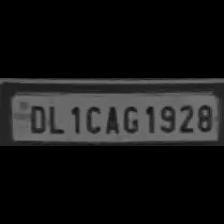1: (64, 102, 82, 134), (140, 103, 156, 135)
2: (176, 100, 194, 134)
8: (194, 101, 214, 133)
9: (156, 102, 176, 134)
A: (100, 102, 119, 134)
C: (82, 102, 102, 134)
D: (25, 101, 47, 135)
G: (120, 103, 140, 135)
L: (45, 101, 65, 135)
